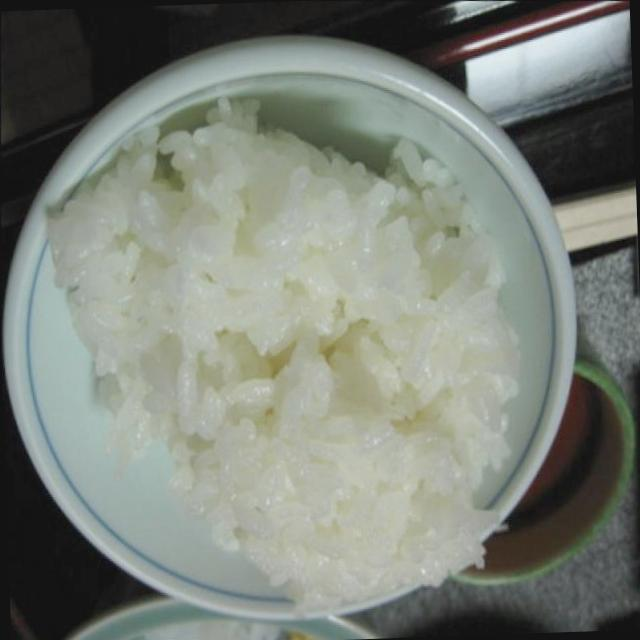Rice: (22, 118, 540, 590)
